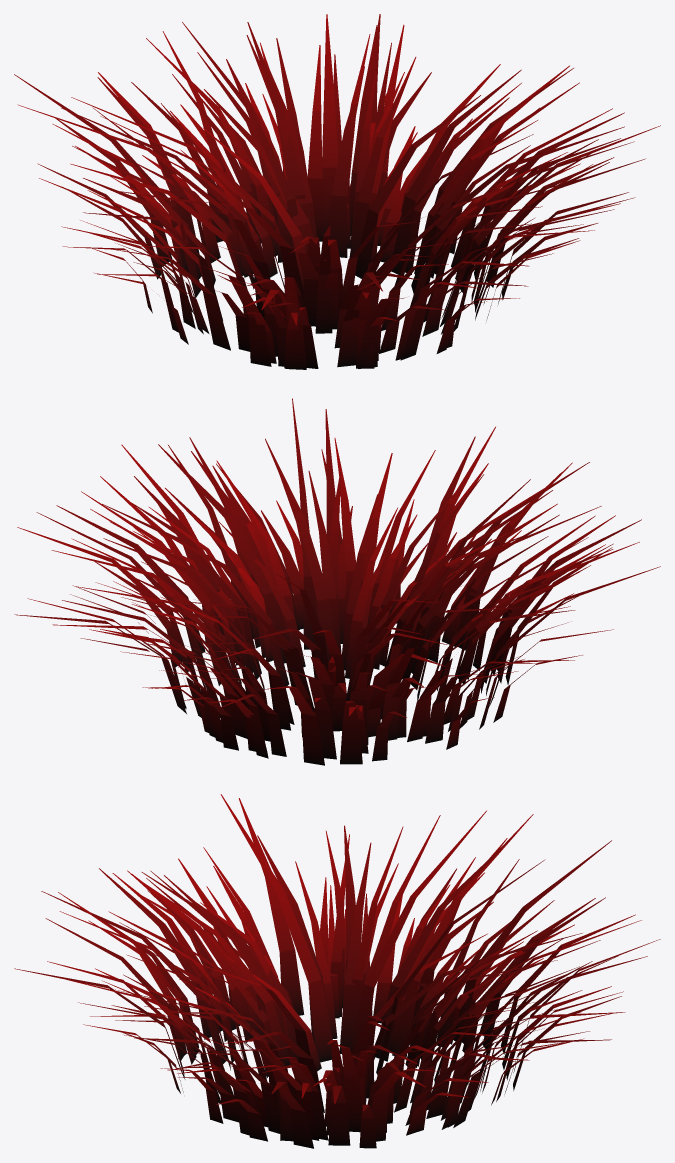
Rendered from alpine_tussock_v2.fbx.
The picture shows the model from 3 angles, top to bottom: view 1: azimuth 30°, elevation 25°; view 2: azimuth 150°, elevation 25°; view 3: azimuth 270°, elevation 25°; orthographic projection. The views are drawn at different scales.
Visible parts, largest first — view 1: alpine_tussock_v2; view 2: alpine_tussock_v2; view 3: alpine_tussock_v2.
Boxes of the visible parts, bbox=[...] form: alpine_tussock_v2: bbox=[14, 14, 660, 369]; alpine_tussock_v2: bbox=[14, 398, 660, 765]; alpine_tussock_v2: bbox=[14, 794, 660, 1148].
Size of the model in its own units: 88.89 by 30.92 by 90.73.
